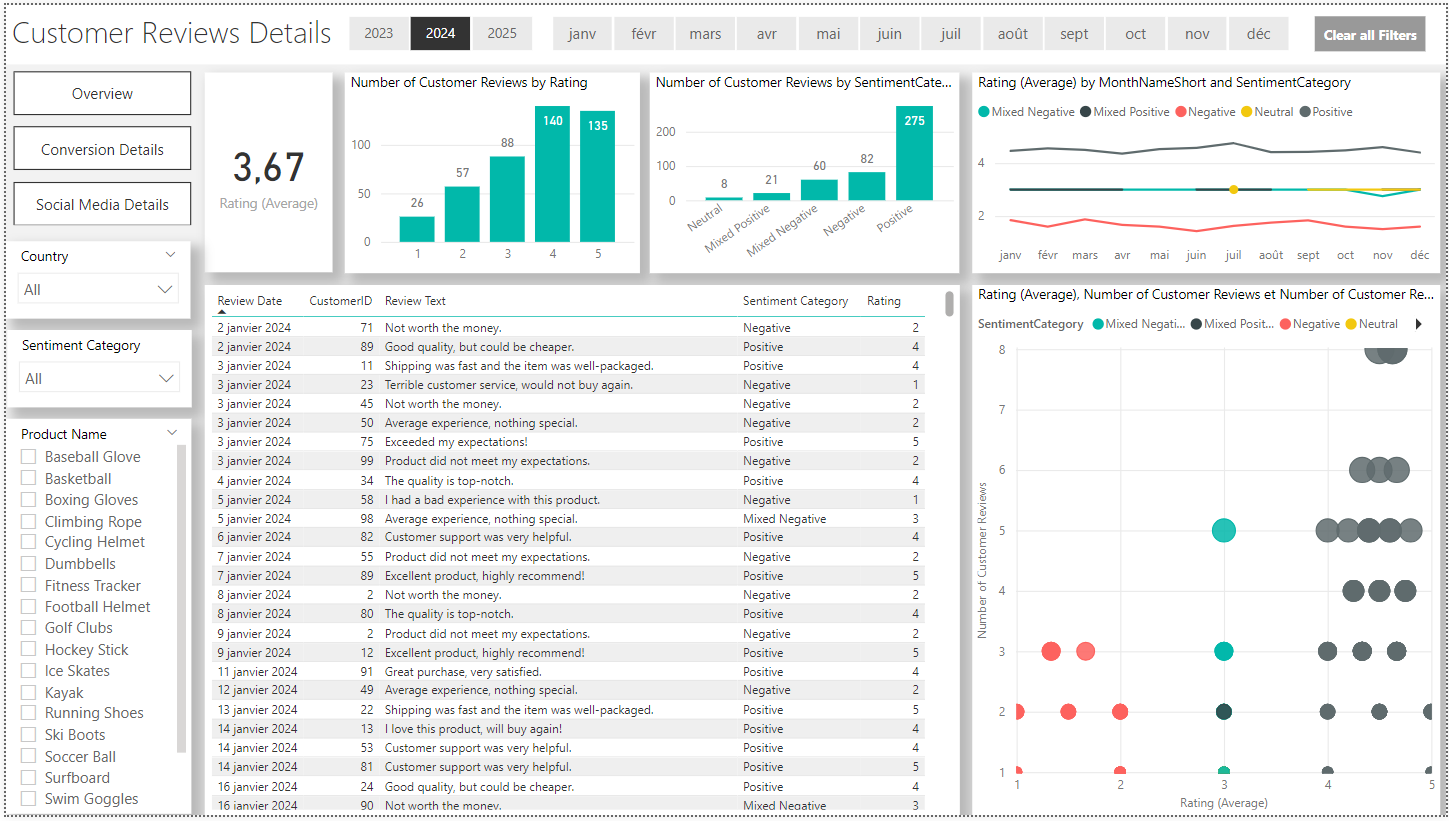

The page's visual inventory and layout, read from the dashboard file:
{"tool":"powerbi","page":{"name":"Customer Reviews Details","canvas":[1280,720],"ordinal":3},"visuals":[{"type":"card","fields":{"Values":["_Calculations.Rating (Average)"]},"box":[176.2,60,113.8,177.5],"z":0},{"type":"columnChart","fields":{"Y":["_Calculations.Number of Customer Reviews"],"Category":["fact_customer_reviews_enrich.Rating"]},"box":[301.2,60,262.5,178.8],"z":1000},{"type":"columnChart","fields":{"Category":["fact_customer_reviews_enrich.SentimentCategory"],"Y":["_Calculations.Number of Customer Reviews"]},"box":[572.5,60,275,178.8],"z":2000},{"type":"slicer","fields":{"Values":["dim_customers.Country"]},"box":[0,210,163.8,68.8],"z":3000},{"type":"slicer","fields":{"Values":["fact_customer_reviews_enrich.SentimentCategory"]},"box":[1.2,288.8,163.8,68.8],"z":4000},{"type":"slicer","fields":{"Values":["dim_products.ProductName"]},"box":[0,367.5,165,351.2],"z":5000},{"type":"lineChart","fields":{"Series":["fact_customer_reviews_enrich.SentimentCategory"],"Category":["Calendar.MonthNameShort"],"Y":["_Calculations.Rating (Average)"]},"box":[858.8,60,416.2,178.8],"z":6000},{"type":"tableEx","fields":{"Values":["fact_customer_reviews_enrich.ReviewDate","fact_customer_reviews_enrich.CustomerID","fact_customer_reviews_enrich.ReviewText","fact_customer_reviews_enrich.SentimentCategory","fact_customer_reviews_enrich.Rating"]},"box":[176.2,248.8,671.2,471.2],"z":7000},{"type":"scatterChart","title":"Rating (Average), Number of Customer Reviews et Number of Customer Reviews par CustomerID et SentimentCategory","fields":{"X":["_Calculations.Rating (Average)"],"Y":["_Calculations.Number of Customer Reviews"],"Category":["dim_customers.CustomerID"],"Series":["fact_customer_reviews_enrich.SentimentCategory"],"Size":["_Calculations.Number of Customer Reviews"]},"box":[858.8,248.8,416.2,471.2],"z":8000},{"type":"textbox","box":[0,0,1280,52.6],"z":9000},{"type":"slicer","fields":{"Values":["Calendar.Year"]},"box":[278.8,3.8,212.5,43.8],"z":10000},{"type":"slicer","fields":{"Values":["Calendar.MonthNameShort"]},"box":[460,3.8,703.8,43.8],"z":11000},{"type":"actionButton","box":[1163.8,10,98.8,31.2],"z":12000},{"type":"pageNavigator","box":[6.2,58.8,158.8,138.8],"z":13000}]}

Visuals, with their boxes in screenshot pixels (x1, y1, x2, y2), scaled from the page's 1280x720 canvas onto the 1449x821 screenshot:
card - _Calculations.Rating (Average): select_region(199, 68, 328, 271)
columnChart - _Calculations.Number of Customer Reviews x fact_customer_reviews_enrich.Rating: select_region(341, 68, 638, 272)
columnChart - fact_customer_reviews_enrich.SentimentCategory x _Calculations.Number of Customer Reviews: select_region(648, 68, 959, 272)
slicer - dim_customers.Country: select_region(0, 239, 185, 318)
slicer - fact_customer_reviews_enrich.SentimentCategory: select_region(1, 329, 187, 408)
slicer - dim_products.ProductName: select_region(0, 419, 187, 820)
lineChart - fact_customer_reviews_enrich.SentimentCategory x Calendar.MonthNameShort: select_region(972, 68, 1443, 272)
tableEx - fact_customer_reviews_enrich.ReviewDate x fact_customer_reviews_enrich.CustomerID: select_region(199, 284, 959, 820)
"Rating (Average), Number of Customer Reviews et Number of Customer Reviews par CustomerID et SentimentCategory" scatterChart: select_region(972, 284, 1443, 820)
textbox: select_region(0, 0, 1448, 60)
slicer - Calendar.Year: select_region(316, 4, 556, 54)
slicer - Calendar.MonthNameShort: select_region(521, 4, 1317, 54)
actionButton: select_region(1317, 11, 1429, 47)
pageNavigator: select_region(7, 67, 187, 225)
